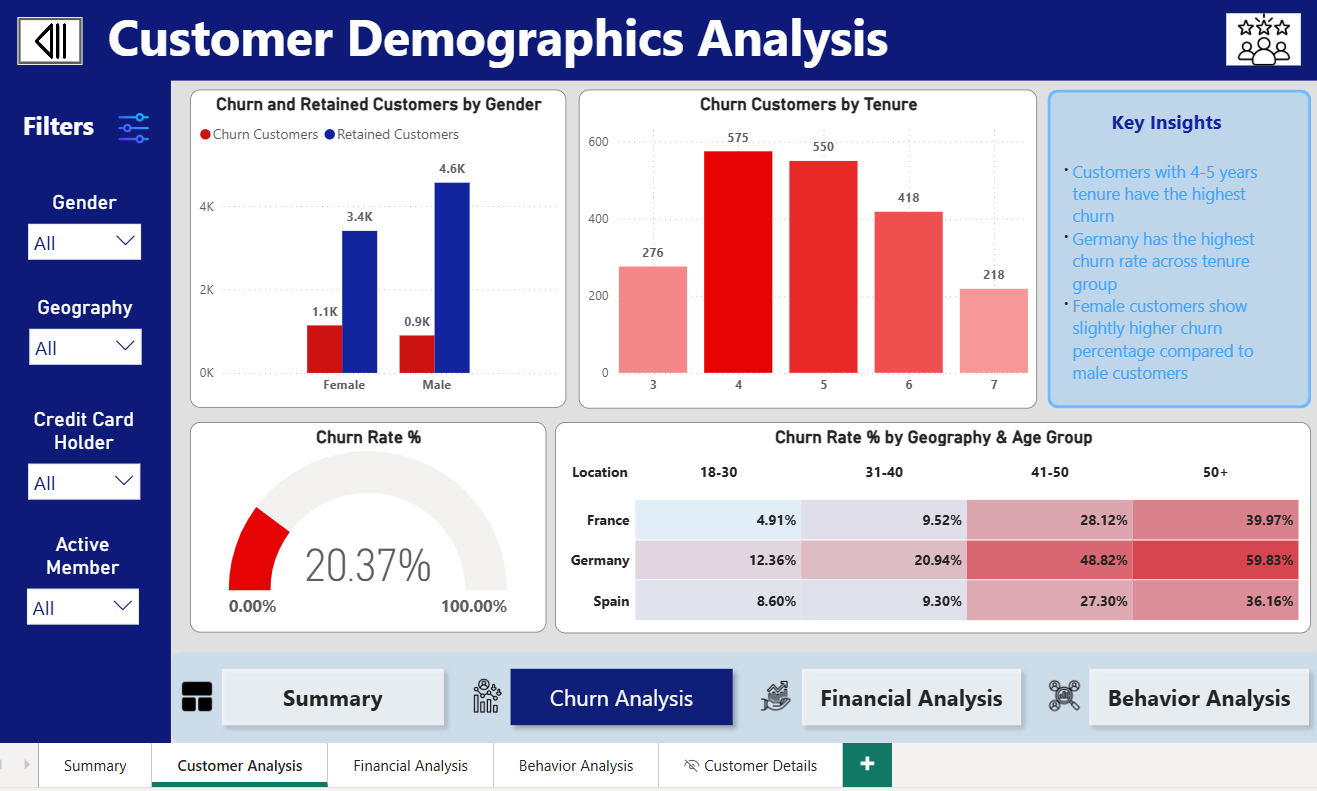

What the dashboard file says about the page in this screenshot:
{"tool":"powerbi","page":{"name":"Customer Analysis","canvas":[1280,720],"ordinal":1},"visuals":[{"type":"shape","box":[0,0,1280,80.7],"z":0},{"type":"textbox","box":[104.3,0,1039.3,80.7],"z":1000},{"type":"image","box":[1188.3,15.7,72.4,50.7],"z":2000},{"type":"clusteredColumnChart","title":"Churn and Retained Customers by Gender","fields":{"Y":["01Measures.Churn Customers","01Measures.Retained Customers"],"Category":["Gender.GenderCategory"]},"box":[187.8,89,363.1,307.5],"z":3000},{"type":"columnChart","fields":{"Y":["01Measures.Churn Customers"],"Category":["Bank_Churn.Tenure"]},"box":[563.4,89.3,442.8,307.6],"z":4000},{"type":"pivotTable","title":"Churn Rate % by Geography & Age Group","fields":{"Values":["01Measures.Churn Rate %"],"Columns":["Bank_Churn.Age Group"],"Rows":["Geography.GeographyLocation"]},"box":[540.5,410.2,729.9,203.9],"z":5000},{"type":"gauge","fields":{"Y":["01Measures.Churn Rate %"]},"box":[187.8,410.4,343.7,203.1],"z":6000},{"type":"shape","box":[0,73.7,169.7,647],"z":7000},{"type":"shape","box":[1015.8,89.3,254.6,307.6],"z":8000},{"type":"actionButton","box":[22.3,19.5,62.6,45.9],"z":9000},{"type":"shape","box":[0,73,169.7,647],"z":10000},{"type":"slicer","title":"Gender","fields":{"Values":["Gender.GenderCategory"]},"box":[21.1,187.3,129.6,95.8],"z":11000},{"type":"slicer","title":"Geography","fields":{"Values":["Geography.GeographyLocation"]},"box":[22.5,288.7,128.2,97.2],"z":12000},{"type":"slicer","title":"Active Member","fields":{"Values":["ActiveCustomer.ActiveCategory"]},"box":[20.9,517.6,128,97.4],"z":13000},{"type":"slicer","title":"Credit Card Holder","fields":{"Values":["CreditCard.Category"]},"box":[22.3,396.5,128,108.5],"z":14000},{"type":"textbox","box":[21.2,102.5,115,50],"z":15000},{"type":"image","box":[103.8,108.8,60,36.2],"z":16000},{"type":"shape","box":[169.7,631.7,1110.3,87.7],"z":17000},{"type":"actionButton","box":[210.1,640,232.3,72.3],"z":18000},{"type":"actionButton","box":[488.3,640,232.3,72.3],"z":19000},{"type":"actionButton","box":[1047.7,640,230,72.3],"z":20000},{"type":"image","box":[179.5,658.1,30.6,34.8],"z":21000},{"type":"image","box":[452.2,658.1,45.9,33.4],"z":22000},{"type":"image","box":[738.8,658.1,30.6,34],"z":23000},{"type":"actionButton","box":[769.4,640,229.6,72.3],"z":24000},{"type":"image","box":[1017,658.1,30.6,34],"z":25000},{"type":"textbox","box":[1017,152,234,248.5],"z":26000},{"type":"textbox","box":[1072.5,102.5,178.8,110],"z":27000}]}

Visuals, with their boxes on the page's 1280x720 design canvas (x1, y1, x2, y2). These are canvas units, not pixel positions in the 1317x791 screenshot, which may show the page scaled, cropped or inside an application window:
shape: Rect(0, 0, 1280, 81)
textbox: Rect(104, 0, 1144, 81)
image: Rect(1188, 16, 1261, 66)
"Churn and Retained Customers by Gender" clusteredColumnChart: Rect(188, 89, 551, 396)
columnChart - 01Measures.Churn Customers x Bank_Churn.Tenure: Rect(563, 89, 1006, 397)
"Churn Rate % by Geography & Age Group" pivotTable: Rect(540, 410, 1270, 614)
gauge - 01Measures.Churn Rate %: Rect(188, 410, 532, 614)
shape: Rect(0, 74, 170, 721)
shape: Rect(1016, 89, 1270, 397)
actionButton: Rect(22, 20, 85, 65)
shape: Rect(0, 73, 170, 720)
"Gender" slicer: Rect(21, 187, 151, 283)
"Geography" slicer: Rect(22, 289, 151, 386)
"Active Member" slicer: Rect(21, 518, 149, 615)
"Credit Card Holder" slicer: Rect(22, 396, 150, 505)
textbox: Rect(21, 102, 136, 152)
image: Rect(104, 109, 164, 145)
shape: Rect(170, 632, 1280, 719)
actionButton: Rect(210, 640, 442, 712)
actionButton: Rect(488, 640, 721, 712)
actionButton: Rect(1048, 640, 1278, 712)
image: Rect(180, 658, 210, 693)
image: Rect(452, 658, 498, 692)
image: Rect(739, 658, 769, 692)
actionButton: Rect(769, 640, 999, 712)
image: Rect(1017, 658, 1048, 692)
textbox: Rect(1017, 152, 1251, 400)
textbox: Rect(1072, 102, 1251, 212)
